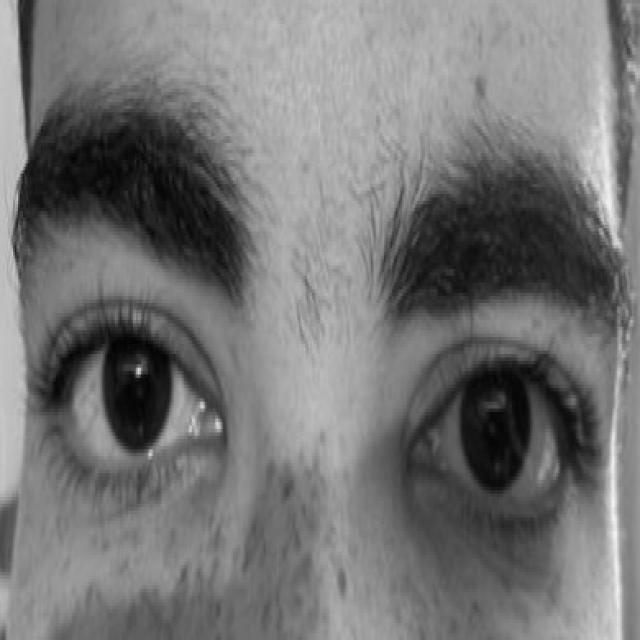real: (27, 153, 616, 589)
